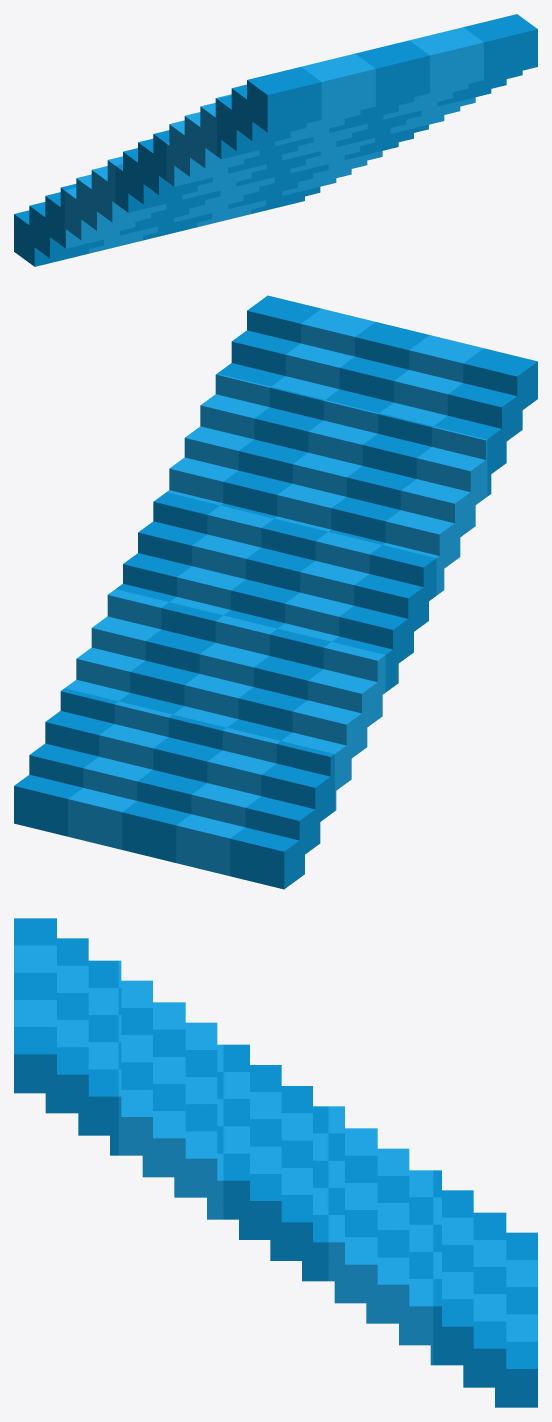
Rendered from stairs192.FBX.
3 views of the same model, one above another, from view 1: azimuth 30°, elevation 25°; view 2: azimuth 150°, elevation 25°; view 3: azimuth 270°, elevation 25° (orthographic). The views are drawn at different scales.
Parts seen in each view (by area): view 1: Box01; view 2: Box01; view 3: Box01.
Part boxes in pixels (x1,y1,x2,y2): Box01: [14, 14, 537, 266]; Box01: [14, 295, 537, 889]; Box01: [14, 918, 537, 1407].
Bounding box in the file's own units: 150 × 244 × 182.
